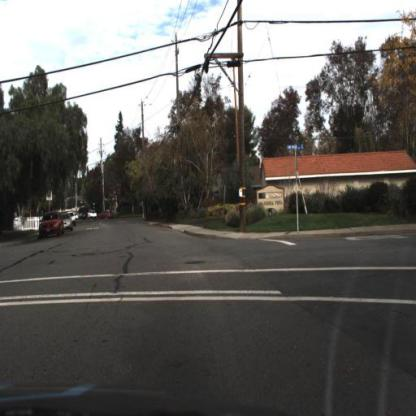car: (37, 213, 64, 239), (62, 210, 75, 236)
